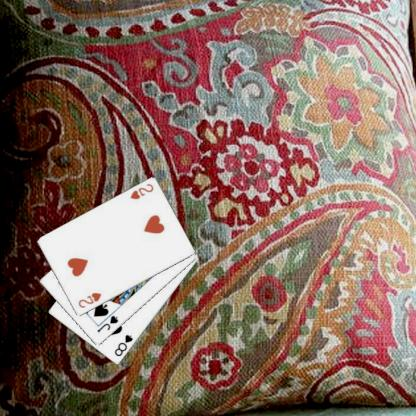2H: (127, 181, 155, 201), (76, 290, 102, 310)
8S: (112, 332, 134, 358)
JS: (94, 313, 119, 334)
